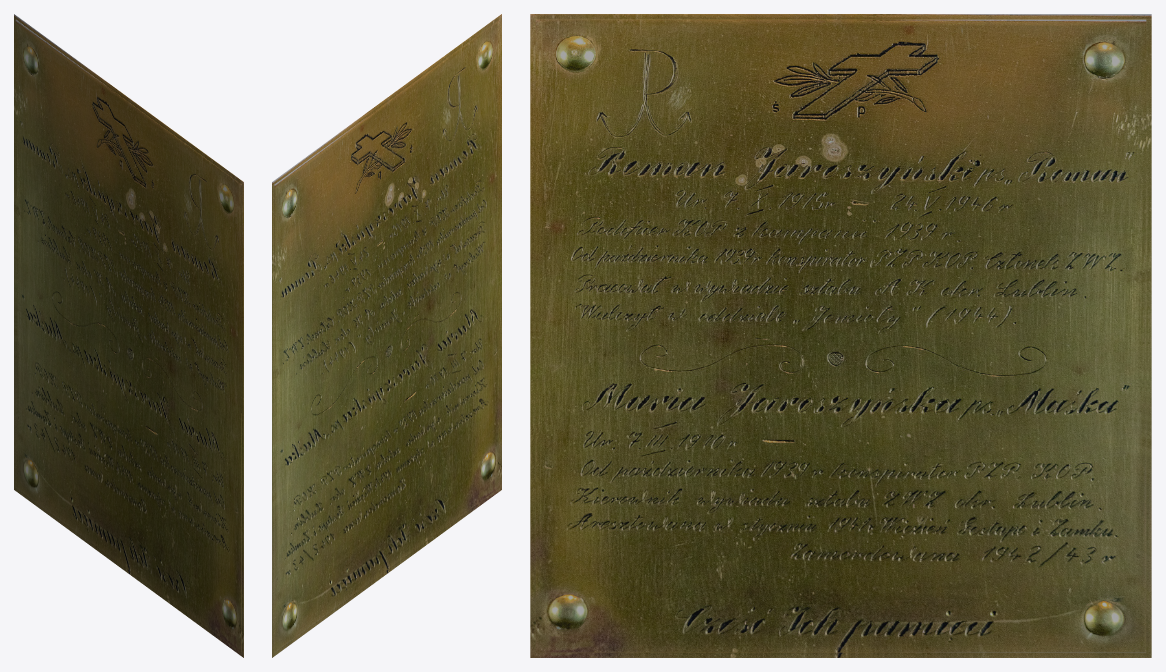
File: 16.  Ś.P. ROMAN JAROSZYNSKI ps. ”ROMAN”.glb
The picture shows the model from 3 angles, left to right: view 1: azimuth 30°, elevation 25°; view 2: azimuth 150°, elevation 25°; view 3: azimuth 270°, elevation 25°; orthographic projection. The views are drawn at different scales.
Visible parts, largest first — view 1: Plane; view 2: Plane; view 3: Plane.
Boxes of the visible parts, x1=… form: Plane: x1=14, y1=14, x2=243, y2=657; Plane: x1=272, y1=14, x2=501, y2=657; Plane: x1=530, y1=14, x2=1151, y2=657.
Bounding box in the file's own units: 0.0246 × 16 × 14.
1 material, 1 textured.
